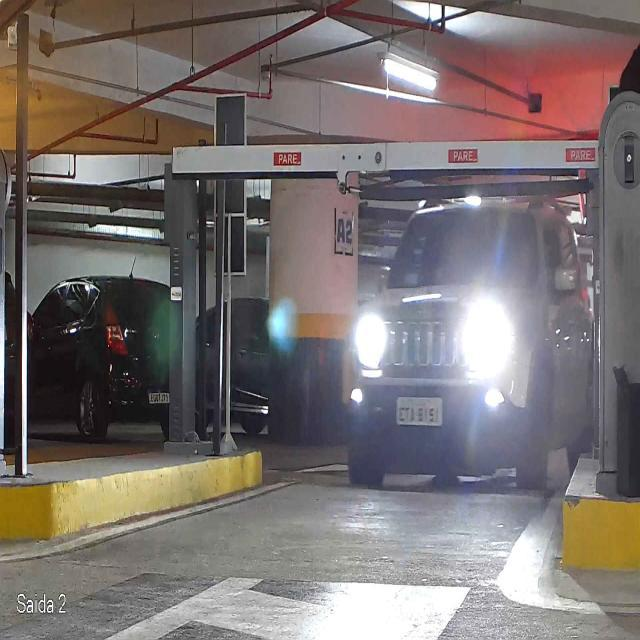old_plate: (395, 395, 444, 427)
